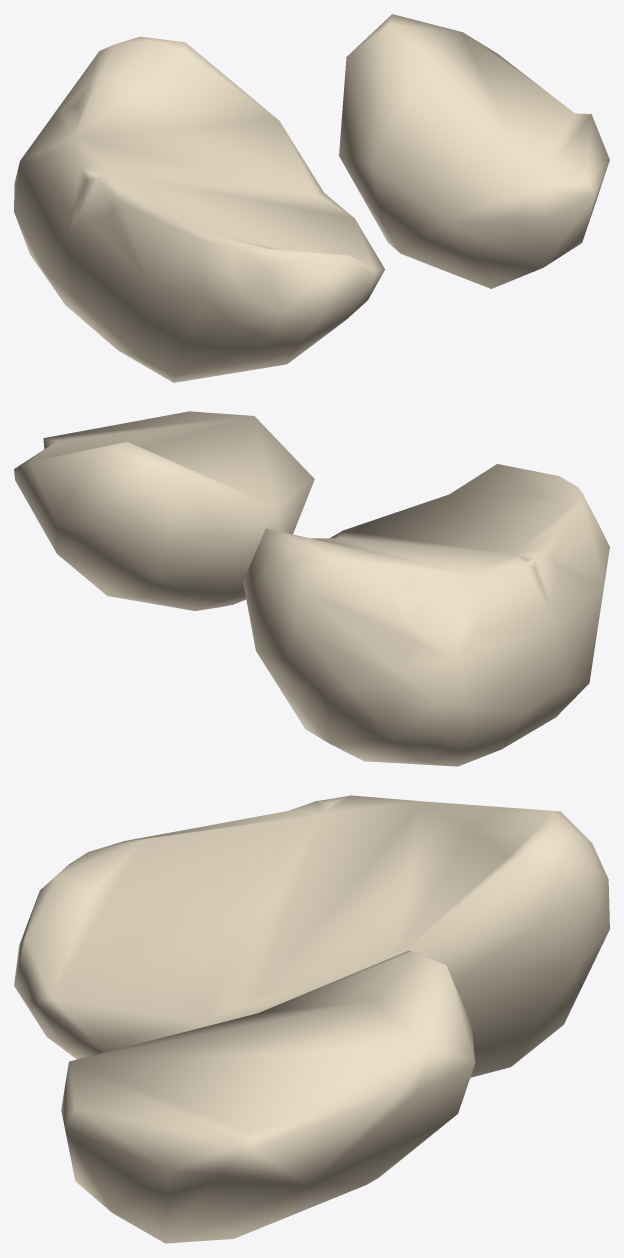
Rendered from sesamoid-bones-of-foot-r.glb.
3 views of the same model, one above another, from view 1: azimuth 30°, elevation 25°; view 2: azimuth 150°, elevation 25°; view 3: azimuth 270°, elevation 25° (orthographic). The views are drawn at different scales.
Parts seen in each view (by area): view 1: Sesamoid bones of foot.r; view 2: Sesamoid bones of foot.r; view 3: Sesamoid bones of foot.r.
Part boxes in pixels (x1,y1,x2,y2): Sesamoid bones of foot.r: (14, 14, 609, 382); Sesamoid bones of foot.r: (14, 411, 609, 766); Sesamoid bones of foot.r: (14, 795, 609, 1243).
Size of the model in its own units: 0.0174 by 0.00802 by 0.0136.
